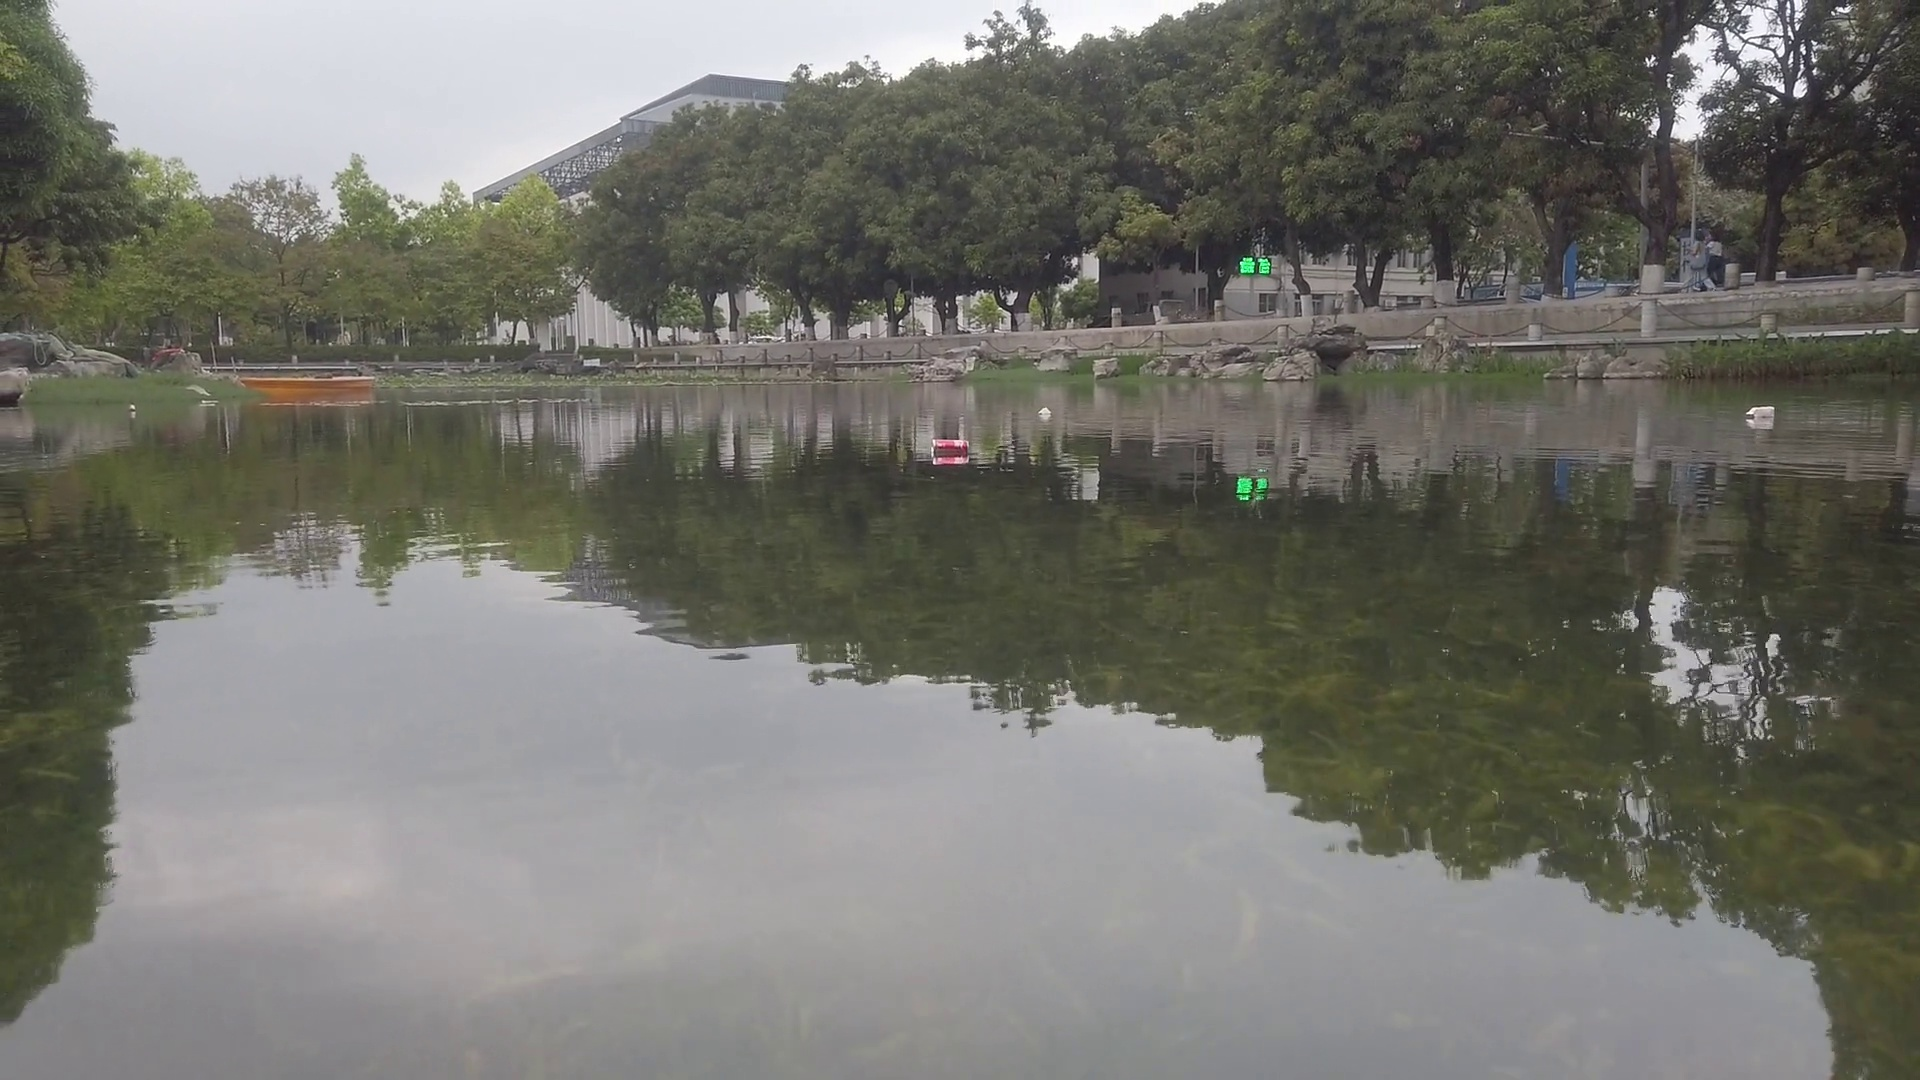bottle: (931, 436, 971, 459), (128, 404, 135, 411)
carton: (1745, 407, 1778, 419), (1038, 405, 1048, 418)
